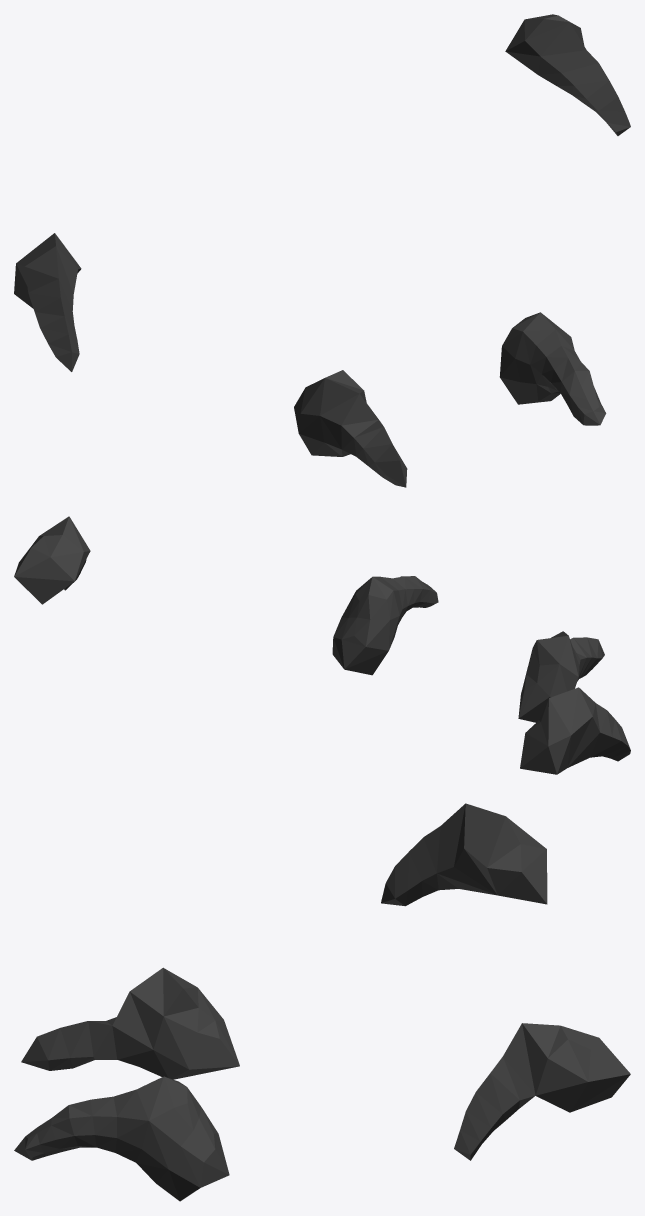
3 renders of one model, top to bottom at view 1: azimuth 30°, elevation 25°; view 2: azimuth 150°, elevation 25°; view 3: azimuth 270°, elevation 25°, orthographic. The views are drawn at different scales.
Visible parts, largest first — view 1: P3s_R; view 2: P3s_R; view 3: P3s_R.
Part boxes in pixels (<box>): P3s_R: <box>14,14,630,487</box>; P3s_R: <box>14,516,630,774</box>; P3s_R: <box>14,803,630,1201</box>.
Bounding box in the file's own units: 3.13 × 1.16 × 2.35.
Materials: 1 (1 with a texture image).
